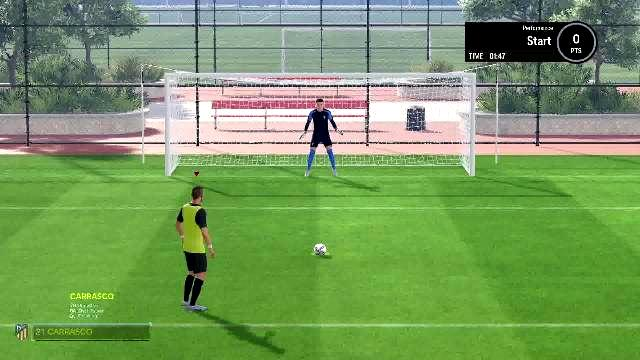bottom-left: (169, 130, 265, 176)
bottom-right: (368, 130, 468, 176)
center-down: (266, 130, 366, 176)
center-up: (267, 78, 367, 128)
circle: (312, 252, 331, 254)
football: (313, 242, 327, 256)
goalkeeper: (298, 99, 344, 178)
player: (172, 185, 218, 314)
top-left: (169, 78, 265, 128)
top-right: (368, 78, 468, 128)
